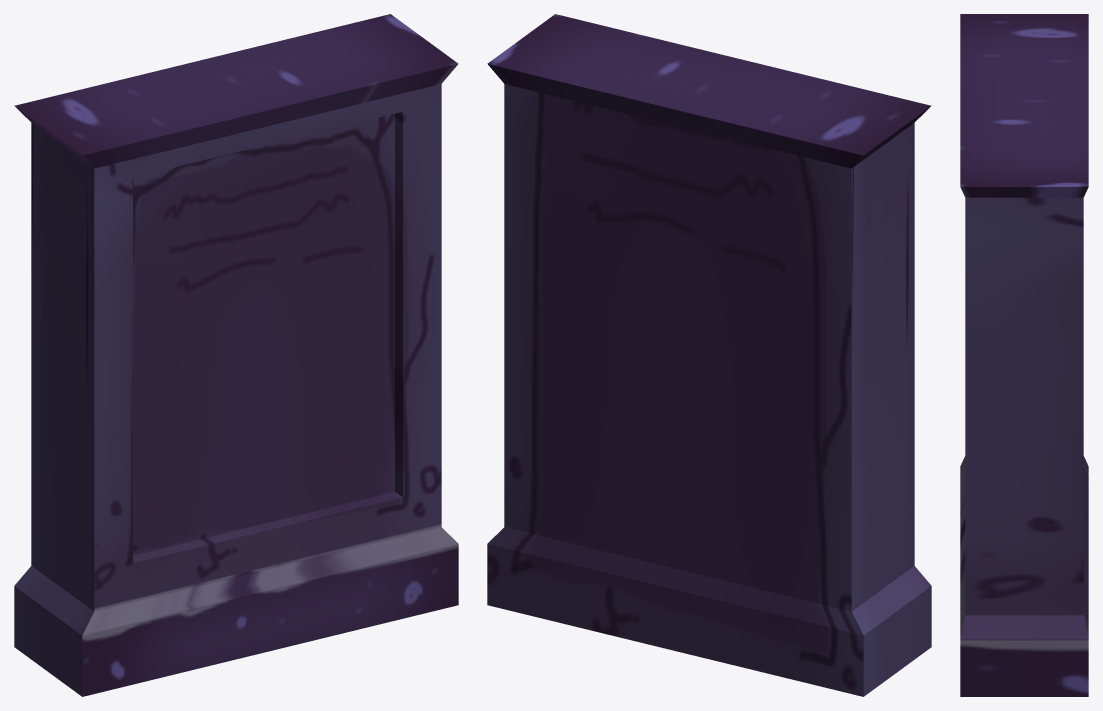
Rendered from Tumulo.fbx.
3 renders of one model, left to right at view 1: azimuth 30°, elevation 25°; view 2: azimuth 150°, elevation 25°; view 3: azimuth 270°, elevation 25°, orthographic. The views are drawn at different scales.
Visible parts, largest first — view 1: Tumulo; view 2: Tumulo; view 3: Tumulo.
Boxes of the visible parts, x1,y1,x2,y2 form: Tumulo: (14, 14, 458, 696); Tumulo: (487, 14, 931, 696); Tumulo: (960, 14, 1088, 696).
Size of the model in its own units: 63.78 by 19.99 by 87.68.
